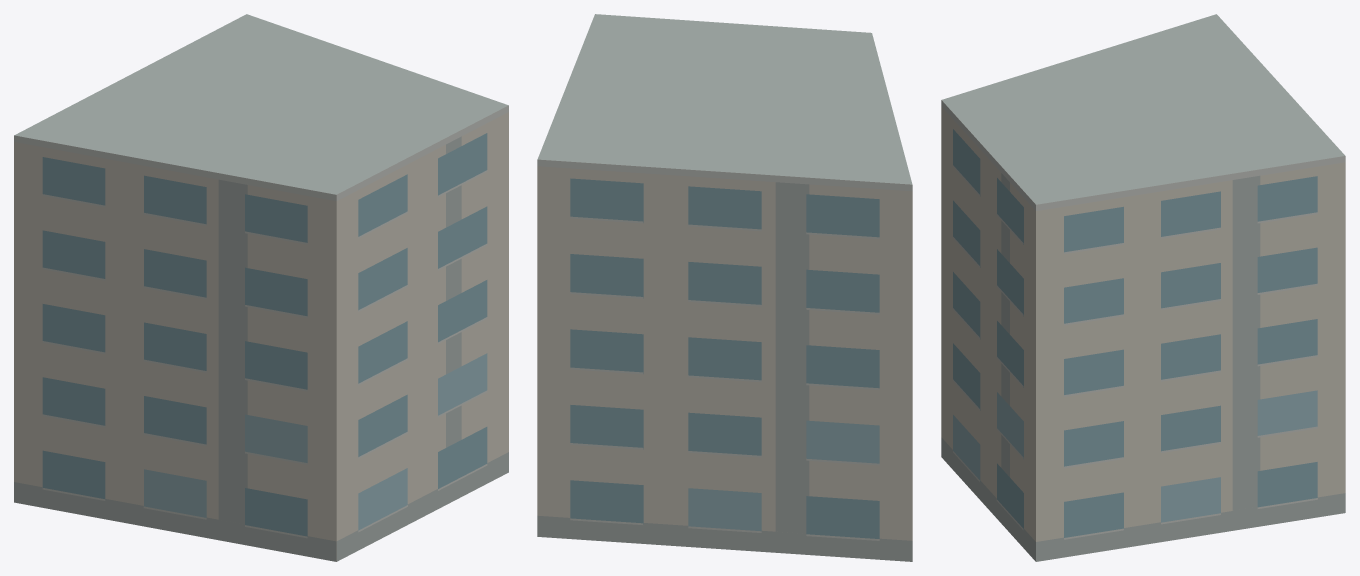
Rendered from survey-upis-32857413.glb.
The picture shows the model from 3 angles, left to right: view 1: azimuth 30°, elevation 25°; view 2: azimuth 150°, elevation 25°; view 3: azimuth 270°, elevation 25°; orthographic projection. The views are drawn at different scales.
Parts seen in each view (by area): view 1: survey-upis-32857413.tmp; view 2: survey-upis-32857413.tmp; view 3: survey-upis-32857413.tmp.
Part boxes in pixels (x1,y1,x2,y2): survey-upis-32857413.tmp: (14,14,508,561); survey-upis-32857413.tmp: (537,14,912,561); survey-upis-32857413.tmp: (941,14,1345,561).
Bounding box in the file's own units: 15.7 × 13.7 × 14.06.
